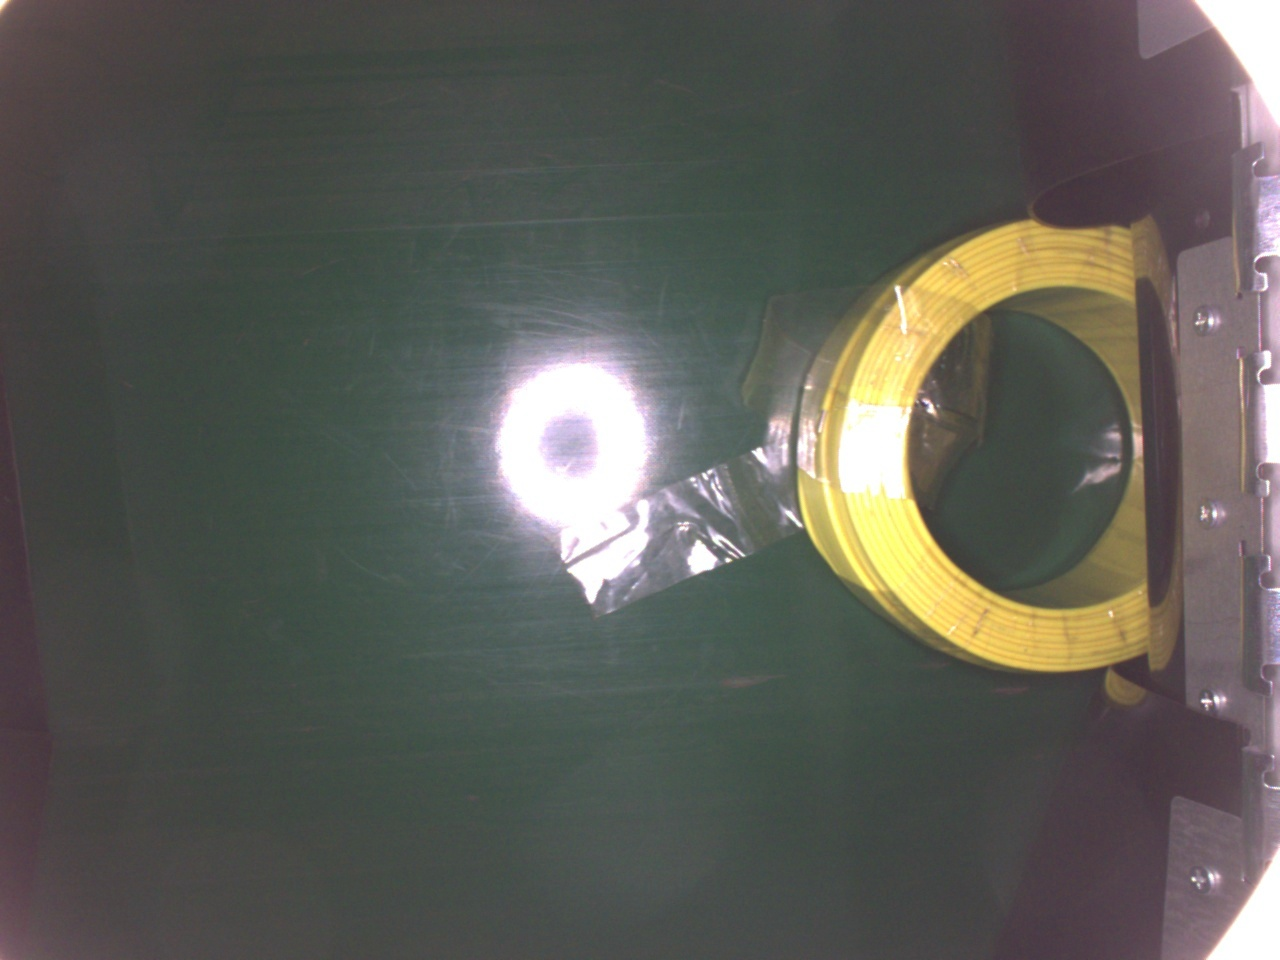yellow: (793, 210, 1151, 675)
